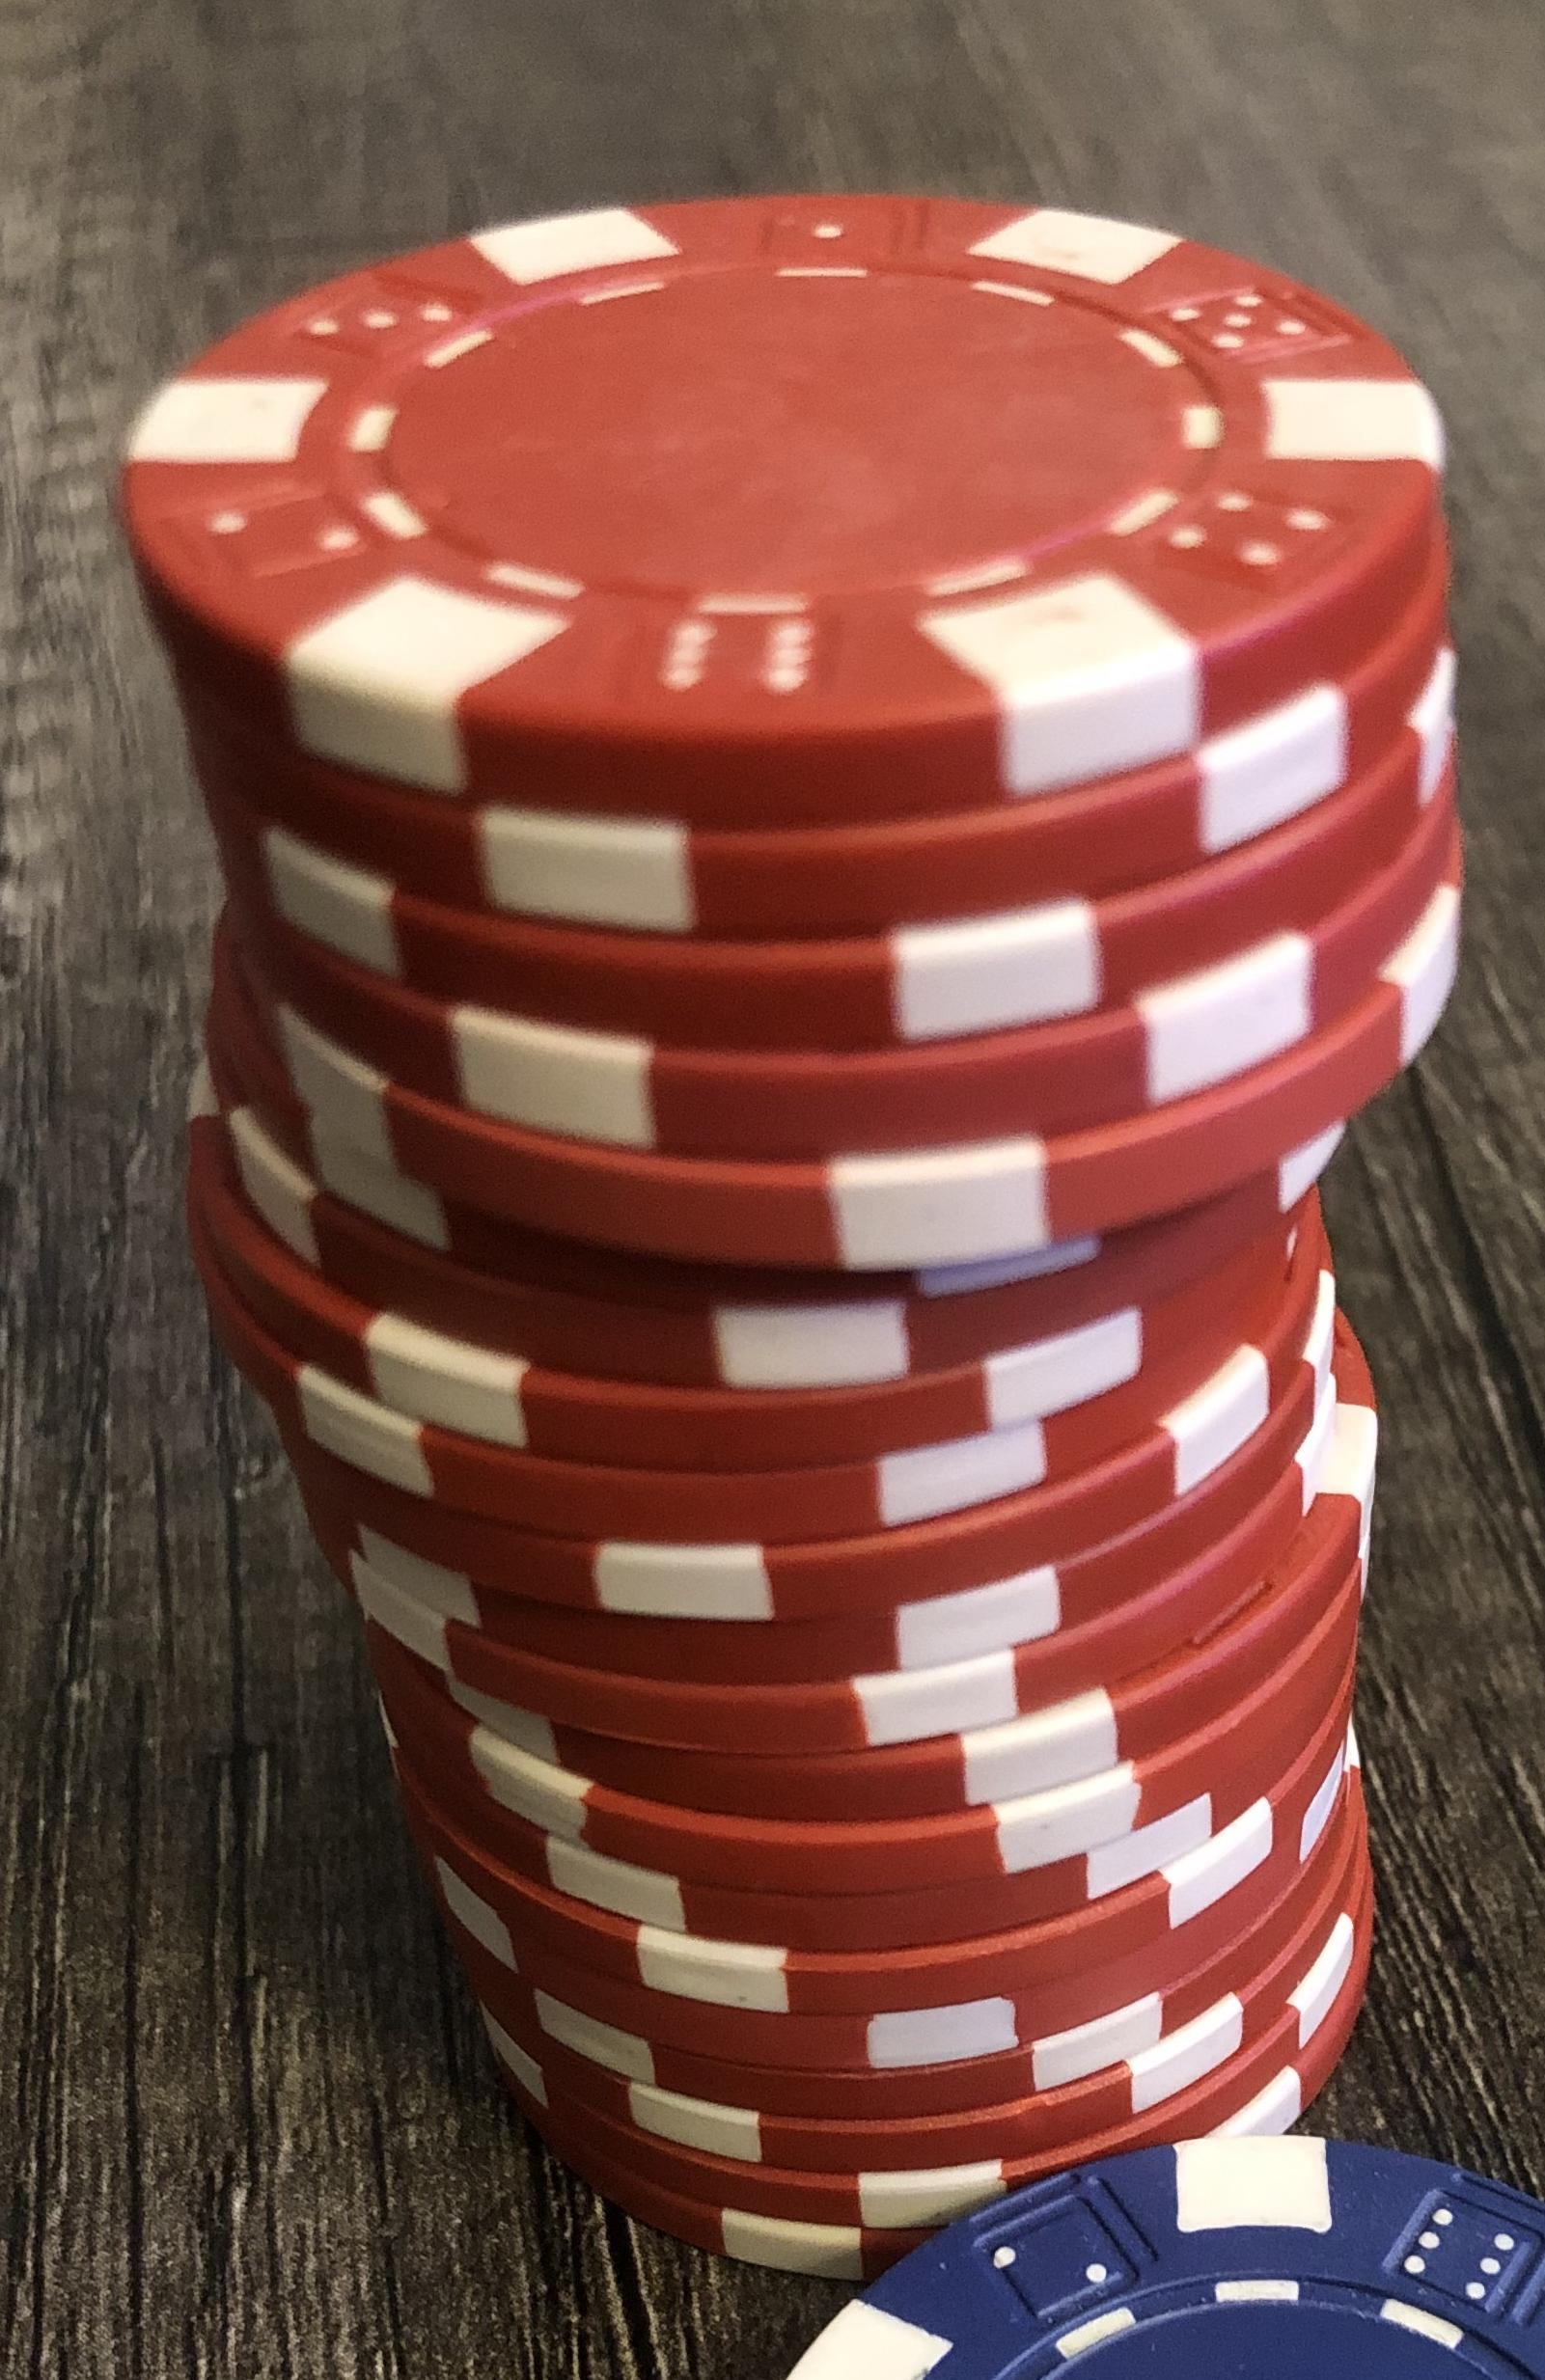Chip: (1, 1, 1545, 2380)
